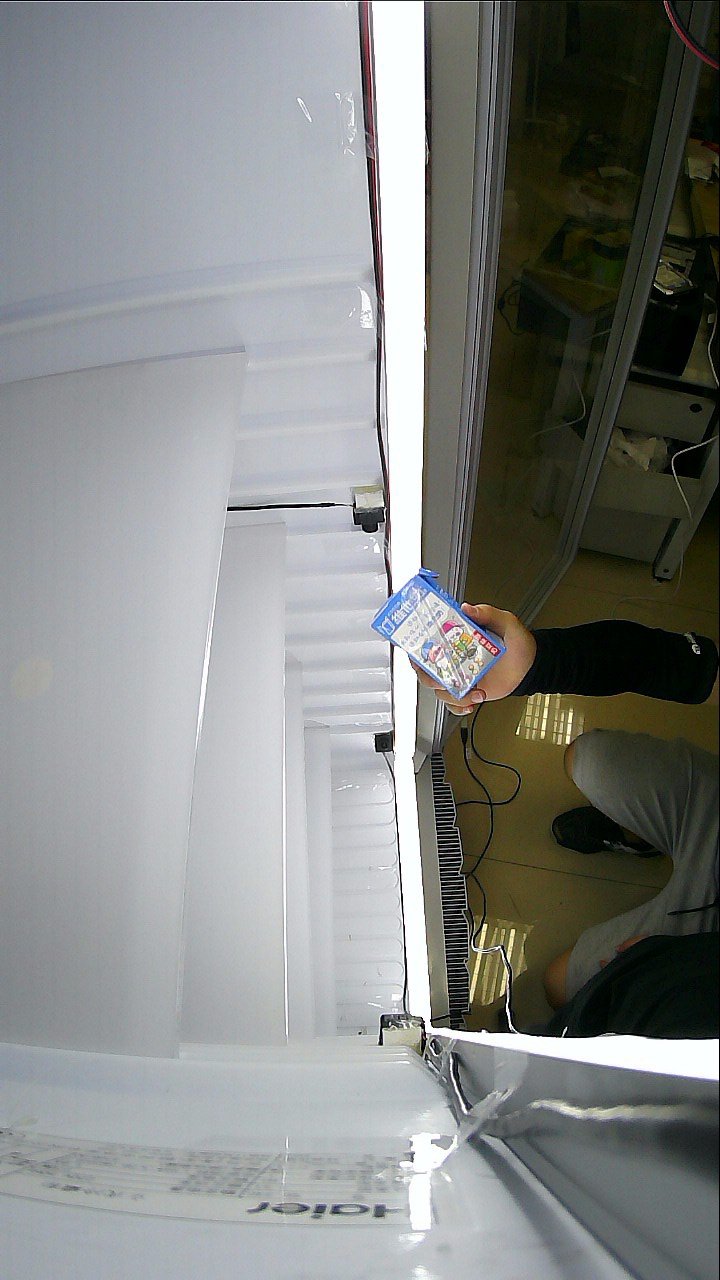VitaSoyOriginal: (377, 573, 537, 718)
